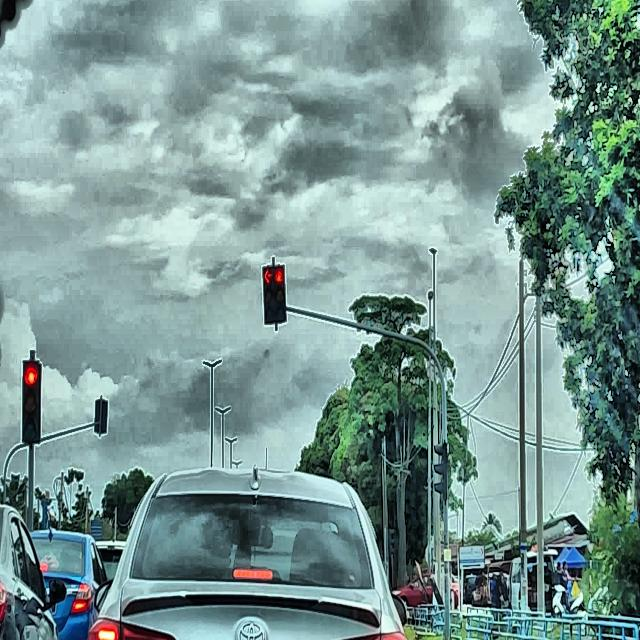red: (22, 360, 38, 442), (272, 265, 287, 321), (262, 265, 274, 322)
